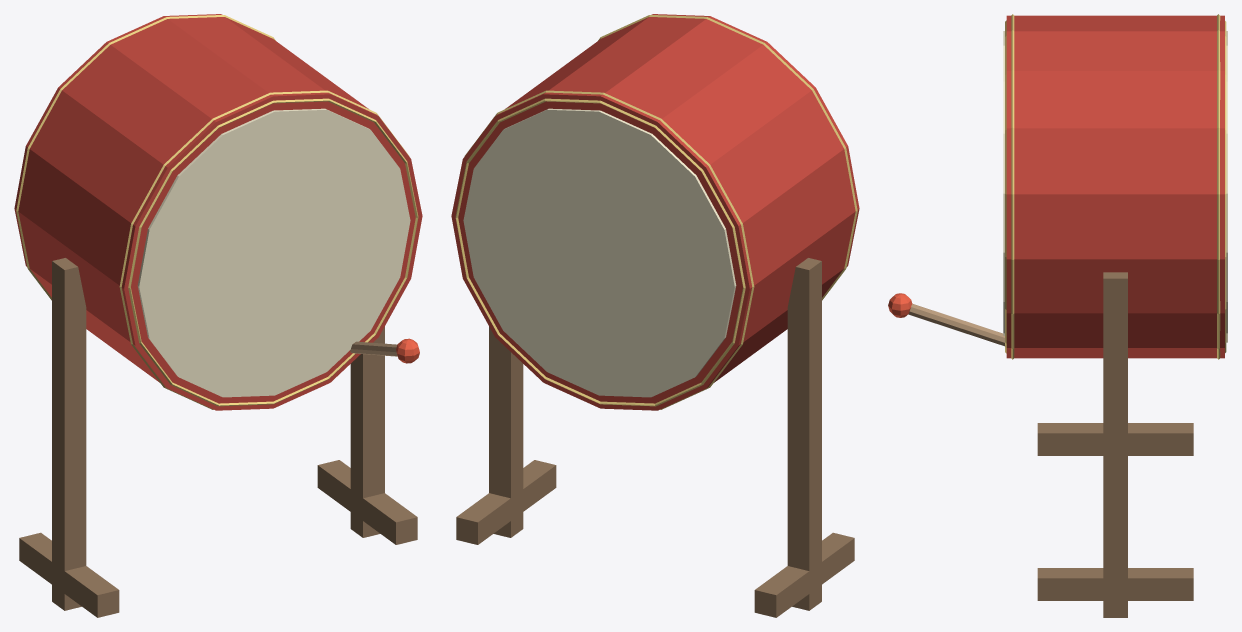
Rendered from cn_drum.glb.
3 views of the same model, side by side, from view 1: azimuth 30°, elevation 25°; view 2: azimuth 150°, elevation 25°; view 3: azimuth 270°, elevation 25° (orthographic).
Visible parts, largest first — view 1: cn_drum; view 2: cn_drum; view 3: cn_drum.
Part boxes in pixels (x1,y1,x2,y2): cn_drum: [14, 14, 422, 617]; cn_drum: [451, 14, 859, 617]; cn_drum: [888, 14, 1227, 617].
Size of the model in its own units: 1.18 by 1.81 by 1.09.
